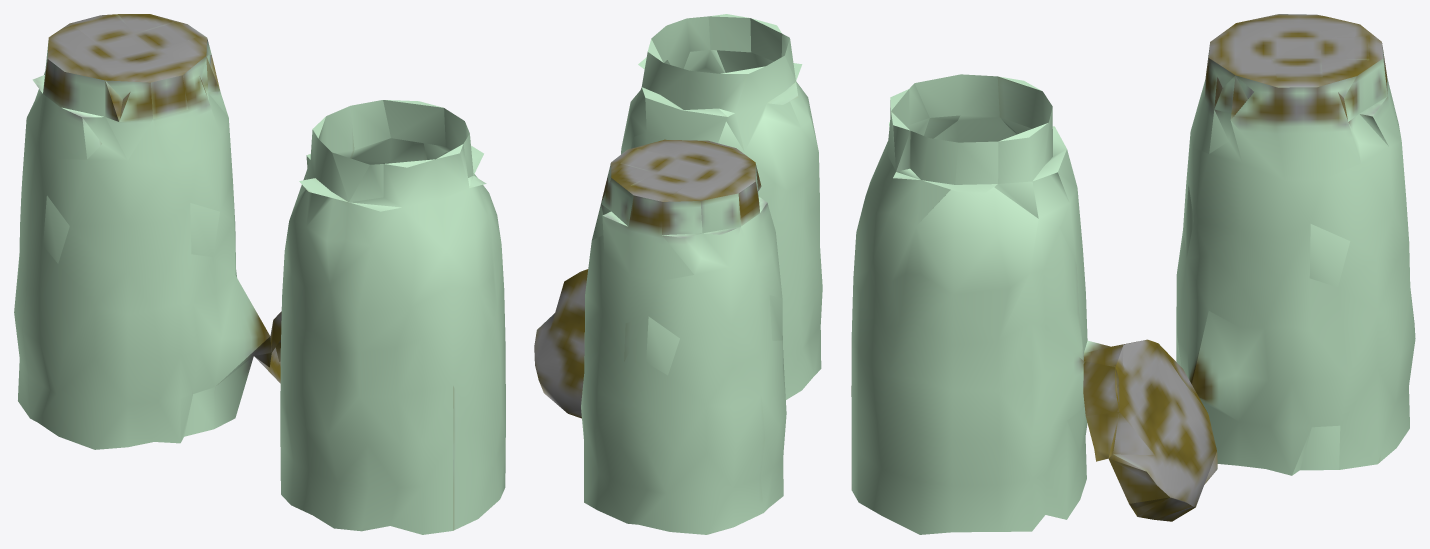
File: screw_jars.glb
3 renders of one model, left to right at view 1: azimuth 30°, elevation 25°; view 2: azimuth 150°, elevation 25°; view 3: azimuth 270°, elevation 25°, orthographic. The views are drawn at different scales.
Visible parts, largest first — view 1: mesh; view 2: mesh; view 3: mesh.
Boxes of the visible parts, bbox=[...] form: mesh: bbox=[14, 14, 505, 534]; mesh: bbox=[534, 14, 822, 534]; mesh: bbox=[851, 14, 1415, 534].
Bounding box in the file's own units: 0.1373 × 0.144 × 0.1917.
Materials: 1 (1 with a texture image).
